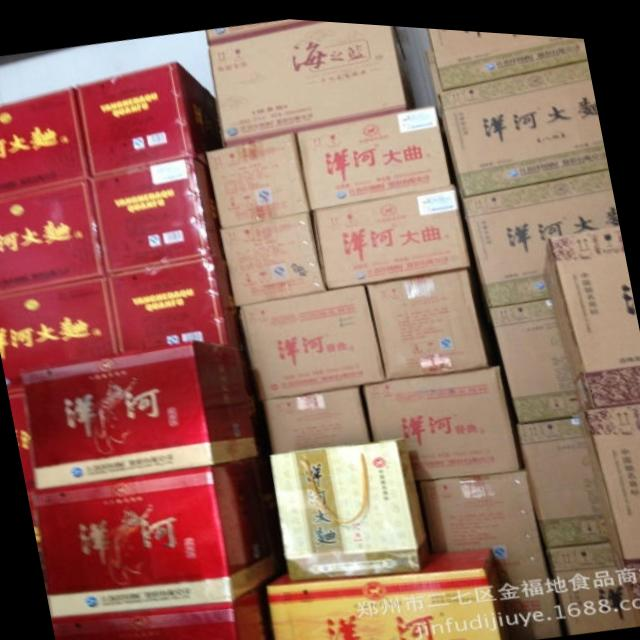box: (32, 452, 280, 619), (22, 339, 260, 491), (416, 463, 563, 636), (207, 17, 409, 141), (267, 543, 512, 640), (270, 430, 430, 577), (439, 52, 609, 189), (461, 162, 620, 300), (362, 360, 522, 474), (73, 61, 225, 178), (545, 216, 640, 401), (239, 280, 386, 397), (295, 97, 452, 206), (312, 180, 469, 285), (87, 154, 224, 274), (0, 274, 119, 396), (366, 261, 490, 376), (106, 253, 243, 354), (516, 409, 620, 540), (53, 580, 273, 640), (0, 178, 106, 293), (490, 290, 583, 415), (584, 391, 640, 593), (218, 207, 327, 304), (206, 128, 312, 226), (427, 22, 587, 85), (9, 393, 53, 619), (0, 87, 88, 198), (545, 533, 640, 624), (262, 381, 372, 449), (205, 15, 319, 41)
